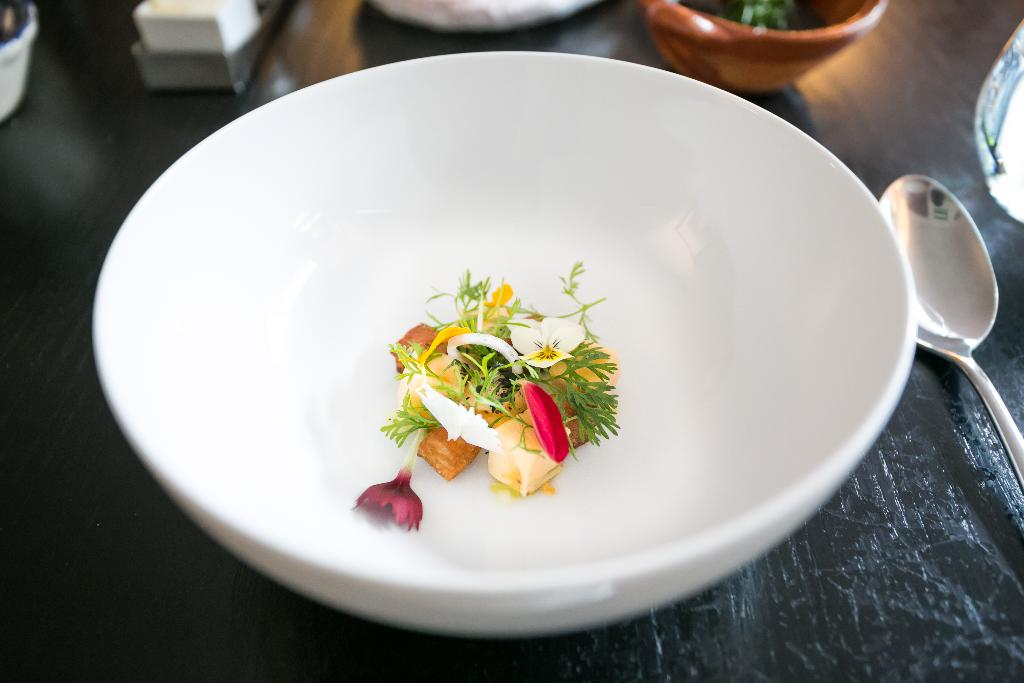salad: (341, 241, 645, 542)
